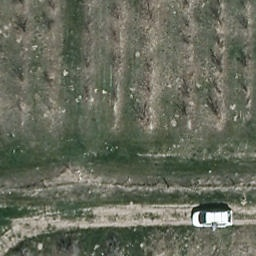car: (192, 211, 234, 231)
